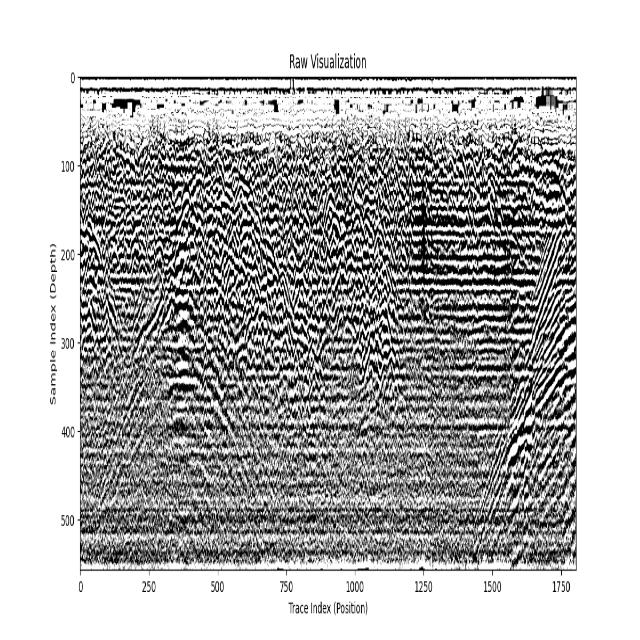anomaly: (91, 264, 278, 522), (468, 224, 576, 554)
